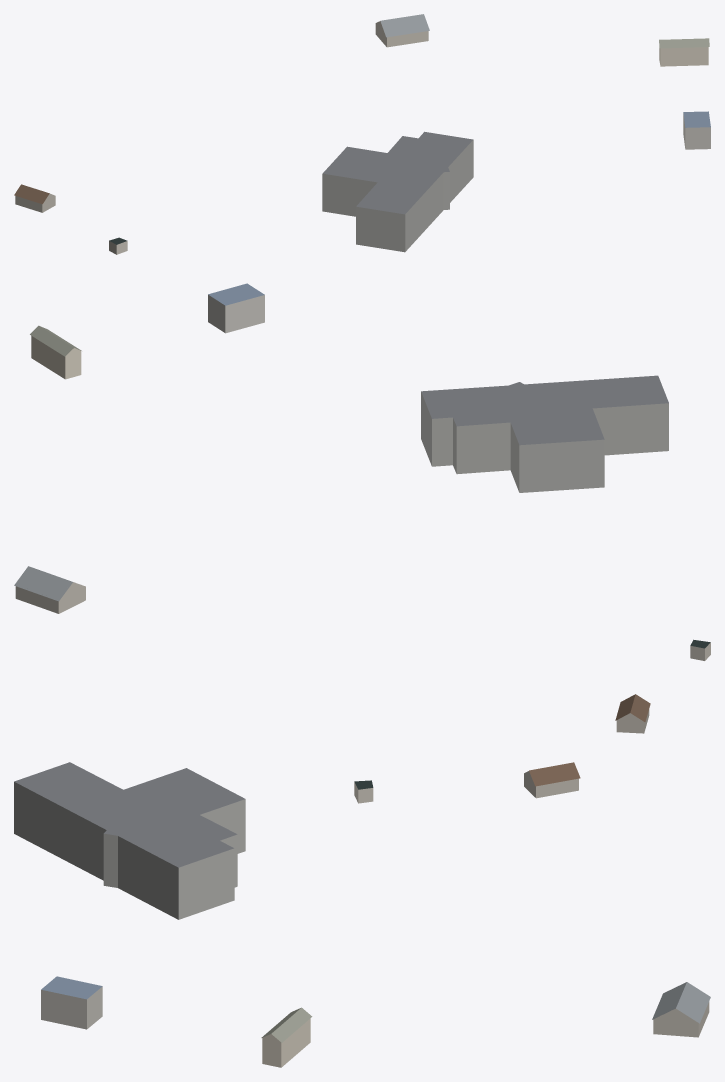
3 renders of one model, top to bottom at view 1: azimuth 30°, elevation 25°; view 2: azimuth 150°, elevation 25°; view 3: azimuth 270°, elevation 25°, orthographic. The views are drawn at different scales.
Parts seen in each view (by area): view 1: tuile; view 2: tuile; view 3: tuile.
Part boxes in pixels (x1,y1,x2,y2): tuile: (14, 14, 710, 254); tuile: (14, 283, 710, 733); tuile: (14, 762, 710, 1067).
Size of the model in its own units: 237 by 38.9 by 176.
